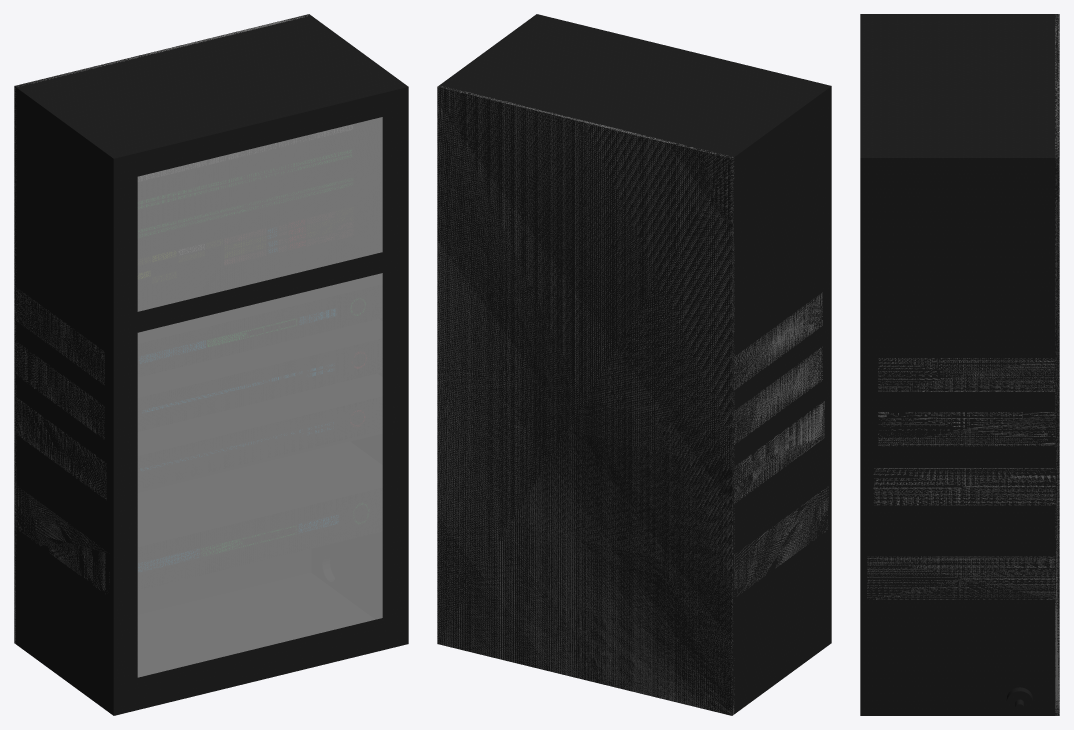
Rendered from Sbox.fbx.
The picture shows the model from 3 angles, left to right: view 1: azimuth 30°, elevation 25°; view 2: azimuth 150°, elevation 25°; view 3: azimuth 270°, elevation 25°; orthographic projection.
Visible parts, largest first — view 1: Office_Element; view 2: Office_Element; view 3: Office_Element.
Part boxes in pixels (x1,y1,x2,y2): Office_Element: (14, 14, 408, 715); Office_Element: (437, 14, 831, 715); Office_Element: (860, 14, 1059, 715).
Size of the model in its own units: 1.63 by 2.78 by 0.9.
